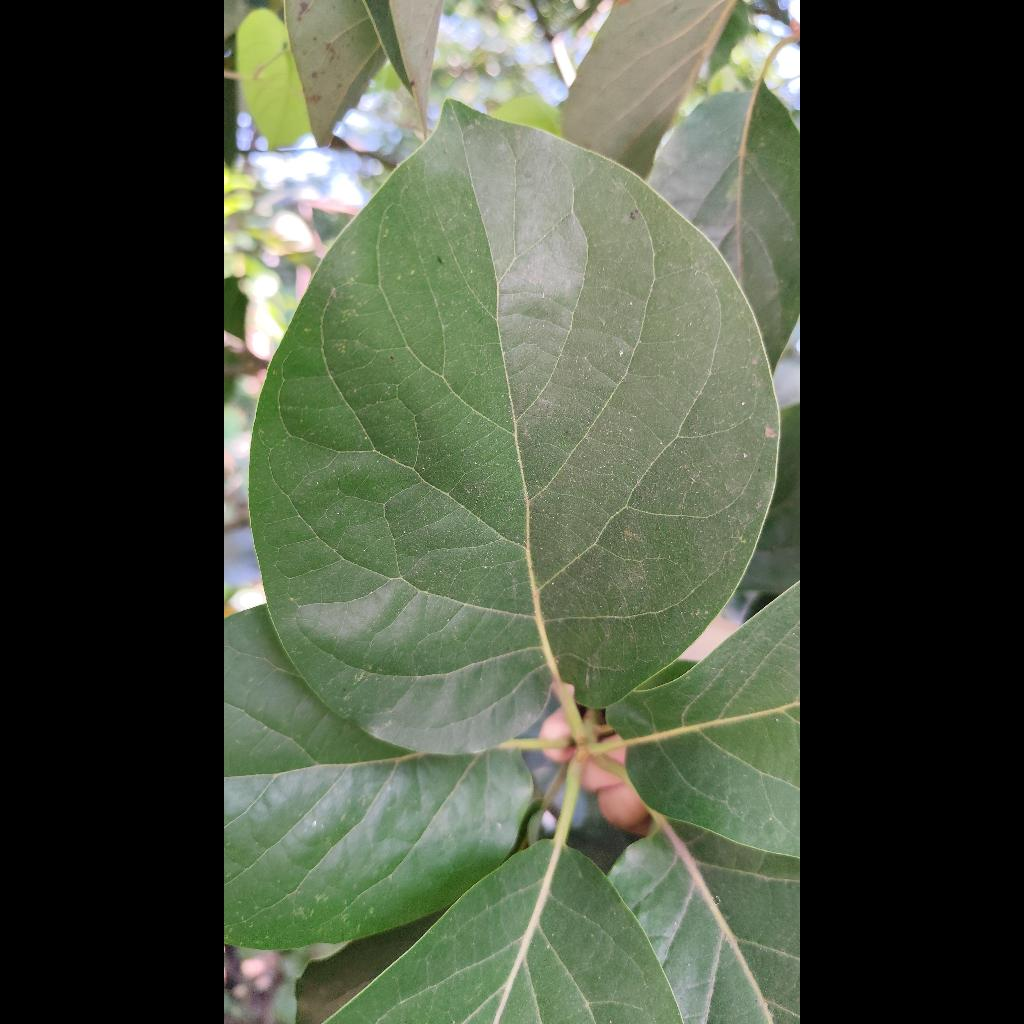Healthy: (251, 101, 778, 753), (224, 608, 531, 948), (326, 841, 681, 1024), (606, 585, 800, 856)
